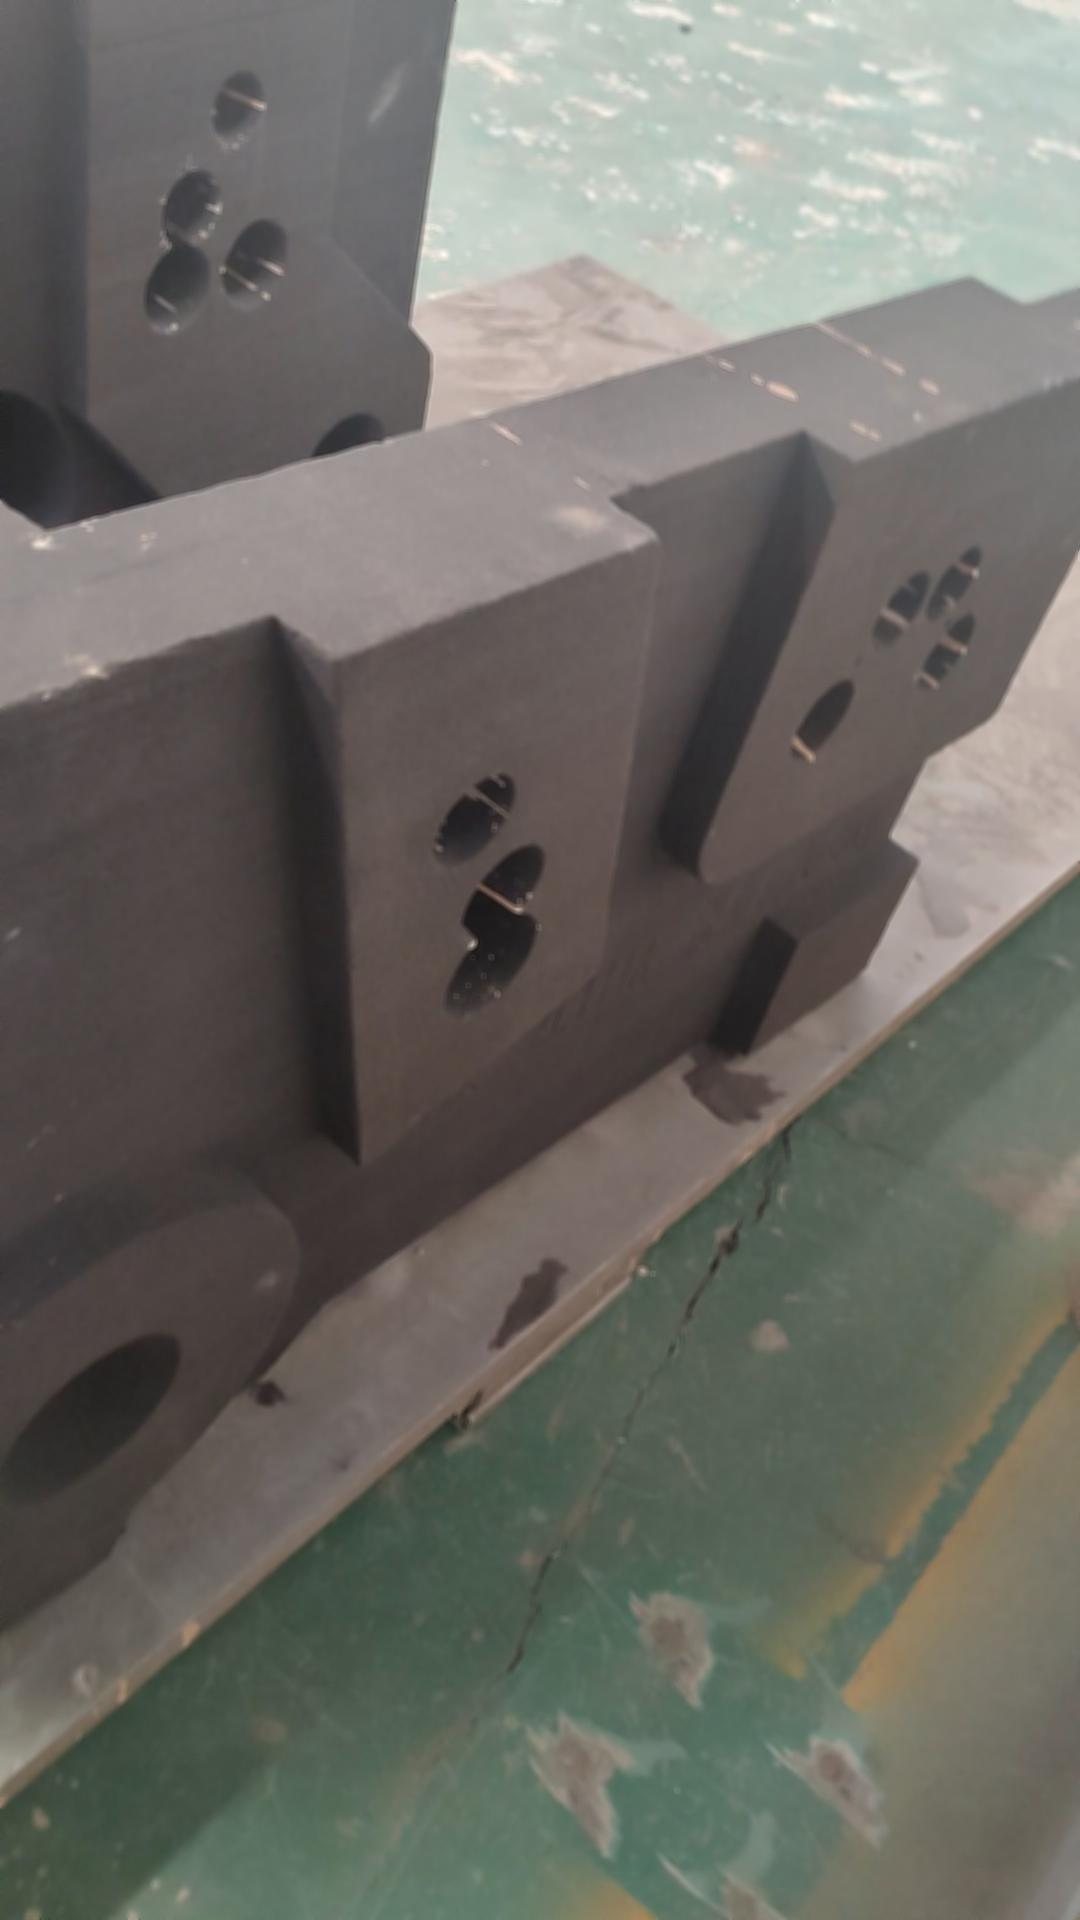pouring hole: (1, 1331, 178, 1513), (307, 413, 393, 493)
